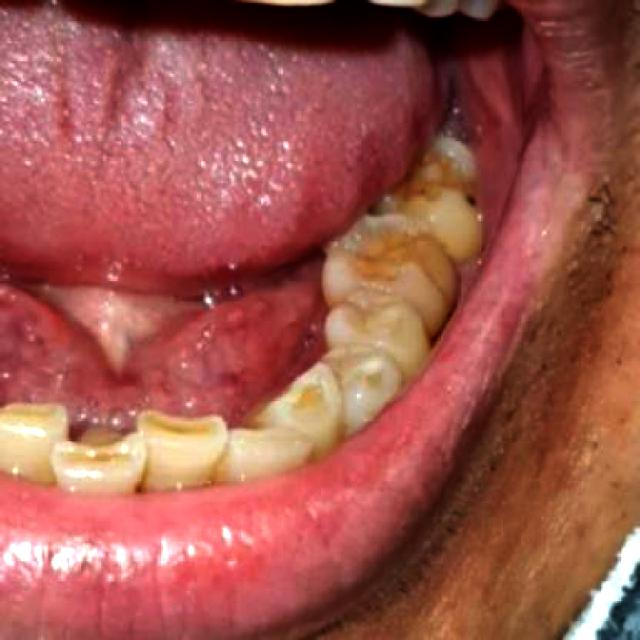Plaque: (460, 188, 483, 208)
